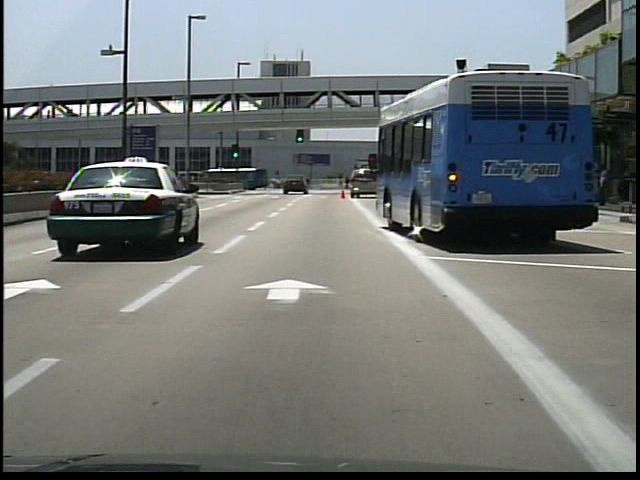person: (342, 175, 352, 191)
